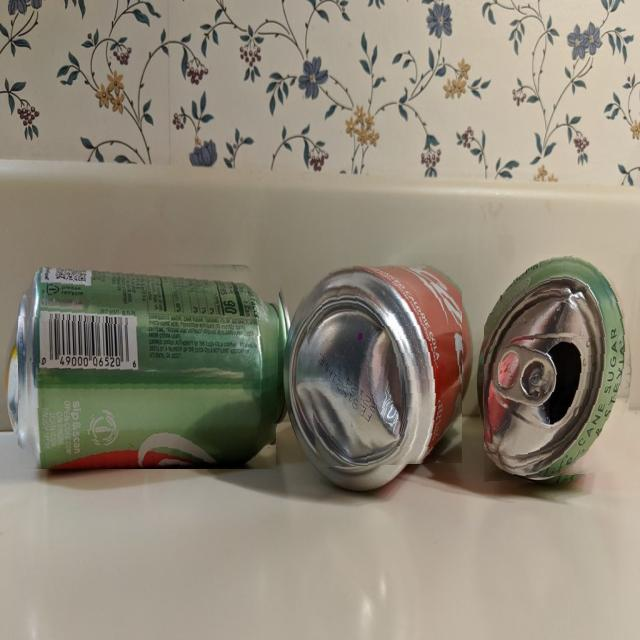Cans: (18, 248, 280, 469), (484, 254, 639, 483), (301, 254, 462, 467)
